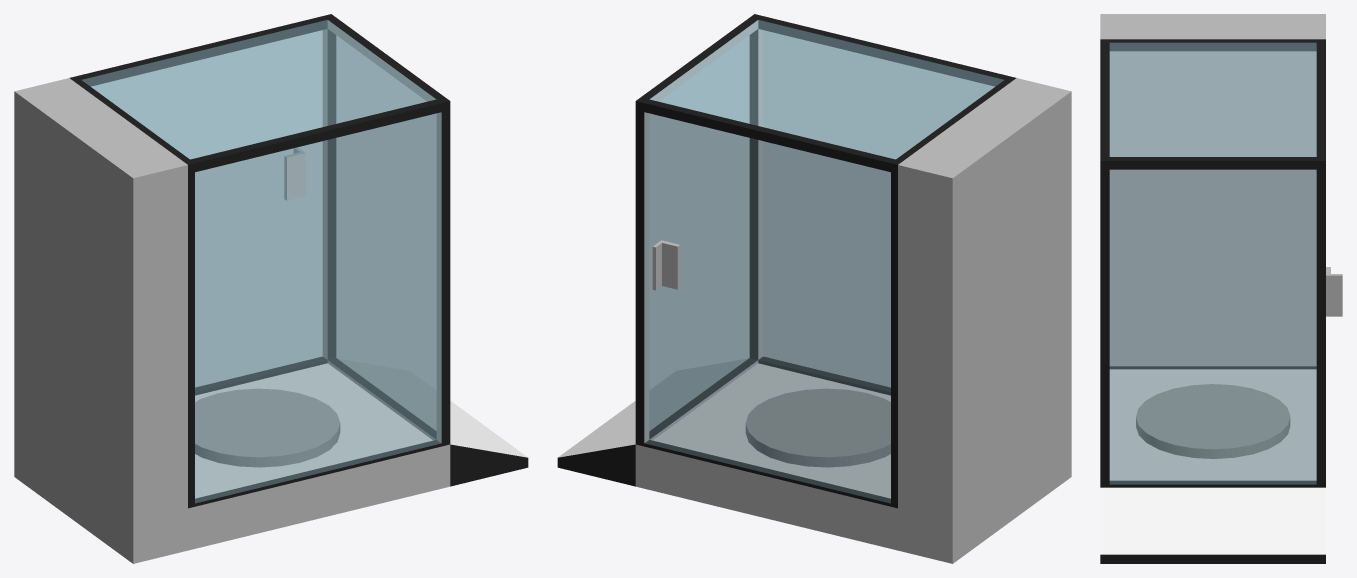
The model's file is Cabinet.fbx.
3 renders of one model, left to right at view 1: azimuth 30°, elevation 25°; view 2: azimuth 150°, elevation 25°; view 3: azimuth 270°, elevation 25°, orthographic. The views are drawn at different scales.
Parts seen in each view (by area): view 1: Group_001; view 2: Group_001; view 3: Group_001.
Part boxes in pixels (bbox=[...]): Group_001: bbox=[14, 14, 528, 563]; Group_001: bbox=[557, 14, 1071, 563]; Group_001: bbox=[1100, 14, 1342, 563].
Size of the model in its own units: 14.37 by 13.39 by 8.03.
